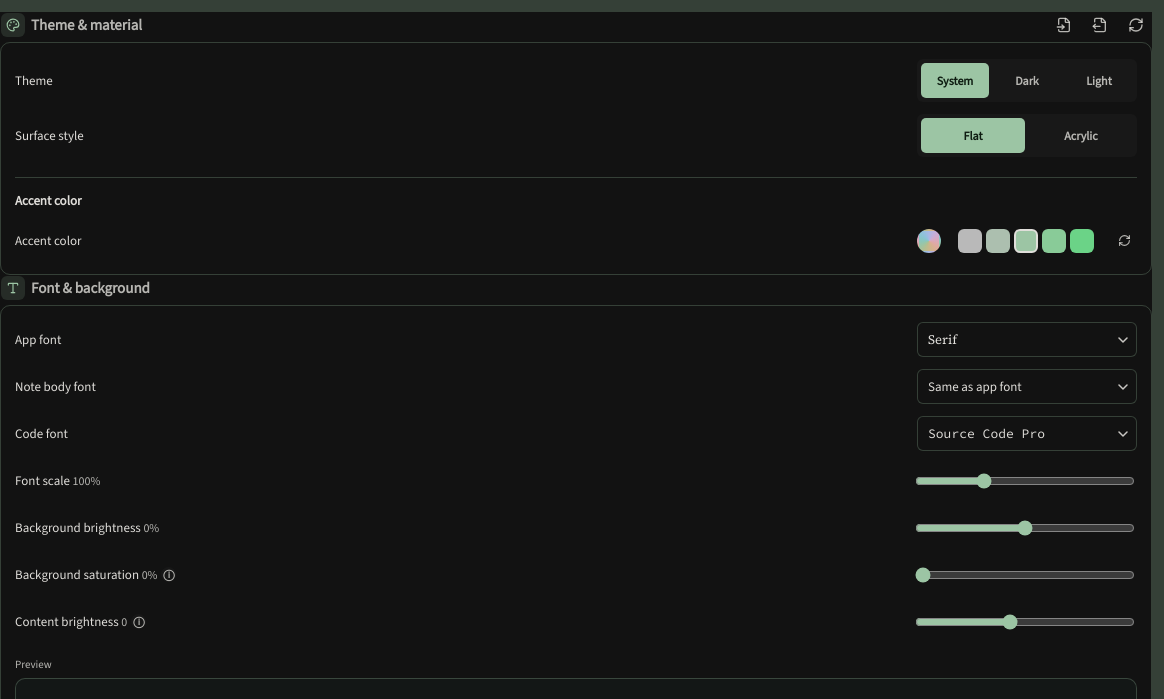
Test: AppearanceSection (W11 / W23-d) › opening Custom on a curated font and leaving the box empty changes nothing
Click the button with test id "settings-font-family": point(1027, 340) [917,322,1137,357]
(page scrolled)
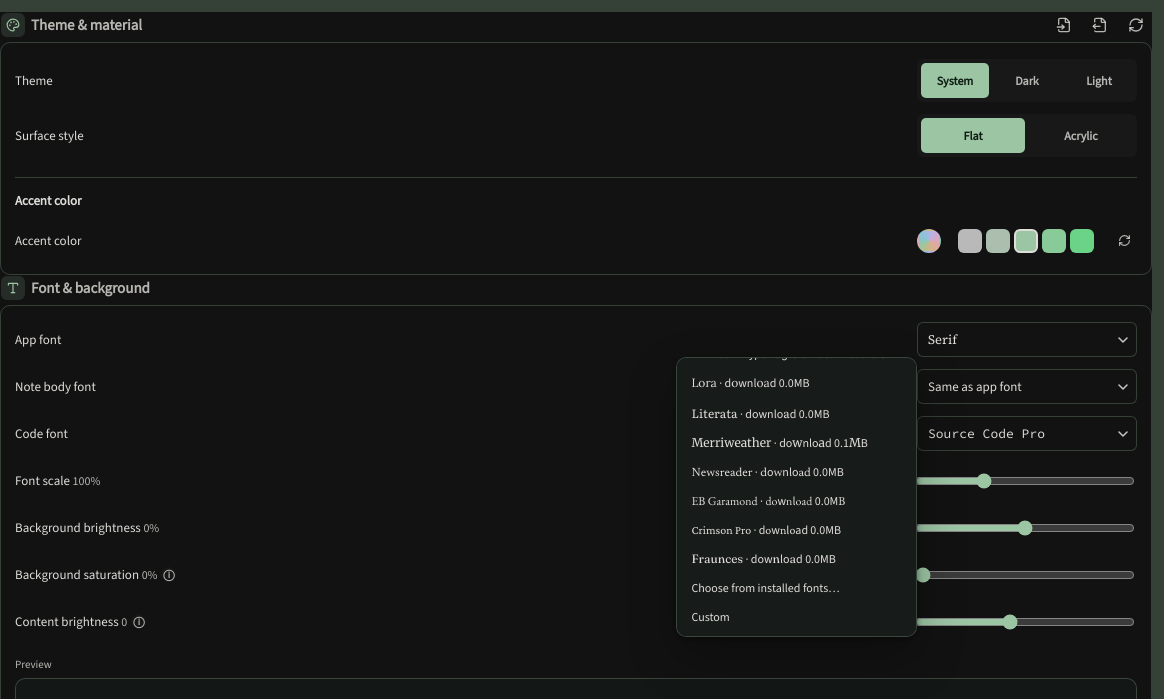
Click the option "Custom": point(711, 617) [691,609,730,625]
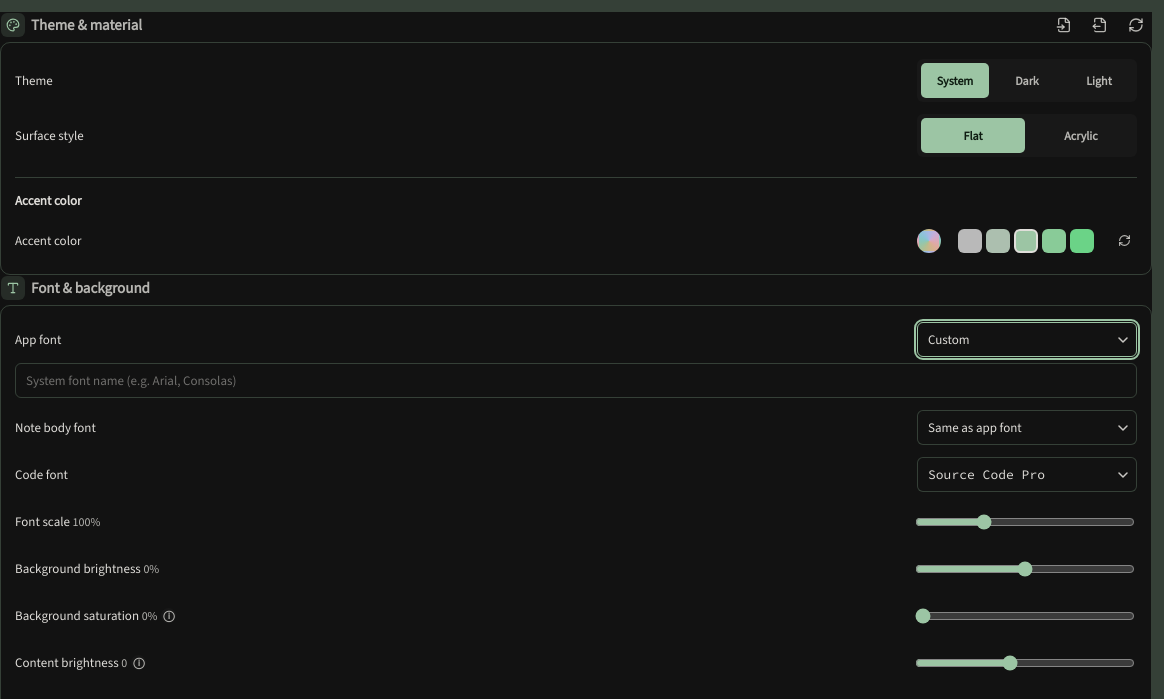
Leave the field with test id "settings-font-custom-input", box [15,363,1137,398]
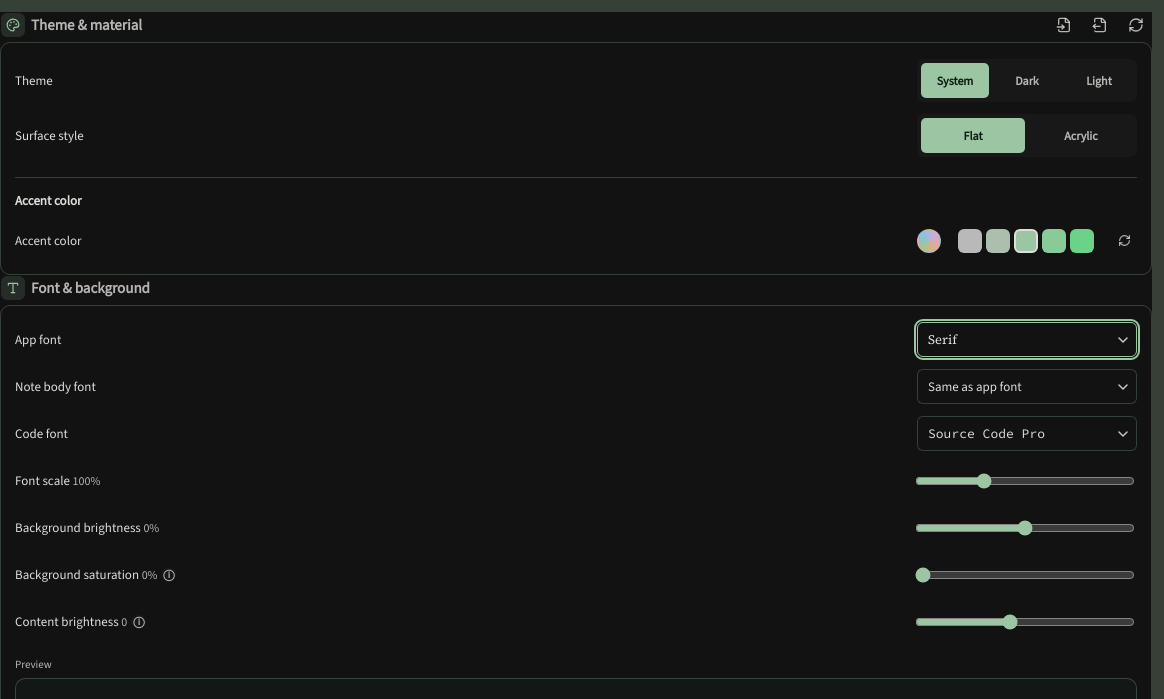
Expected: the field with test id "settings-font-custom-input" is gone
